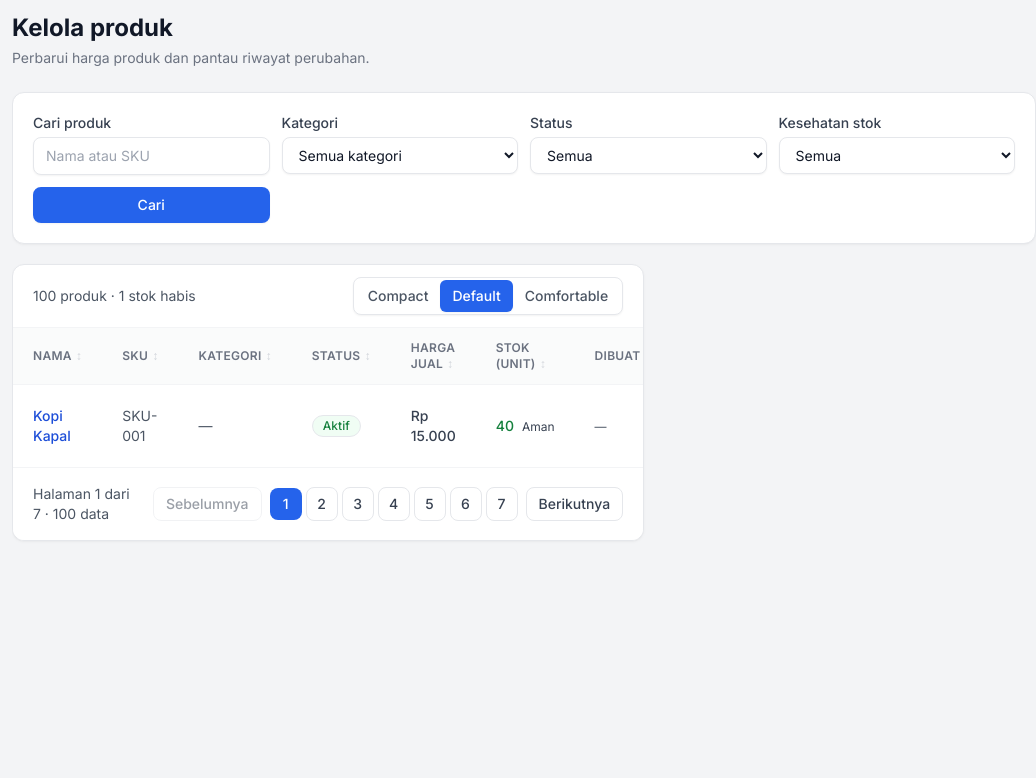
Scenario: admin products page › server-side product filters › combines filters, resets cursor, preserves sort, closes expansion, and renders filtered metadata
The image size is (1036, 778).
Expected: the button "Kopi Kapal" is shown, [33,406,82,446]
Click the column heading "Harga Jual". click: (433, 356)
box: [391,328,476,384]
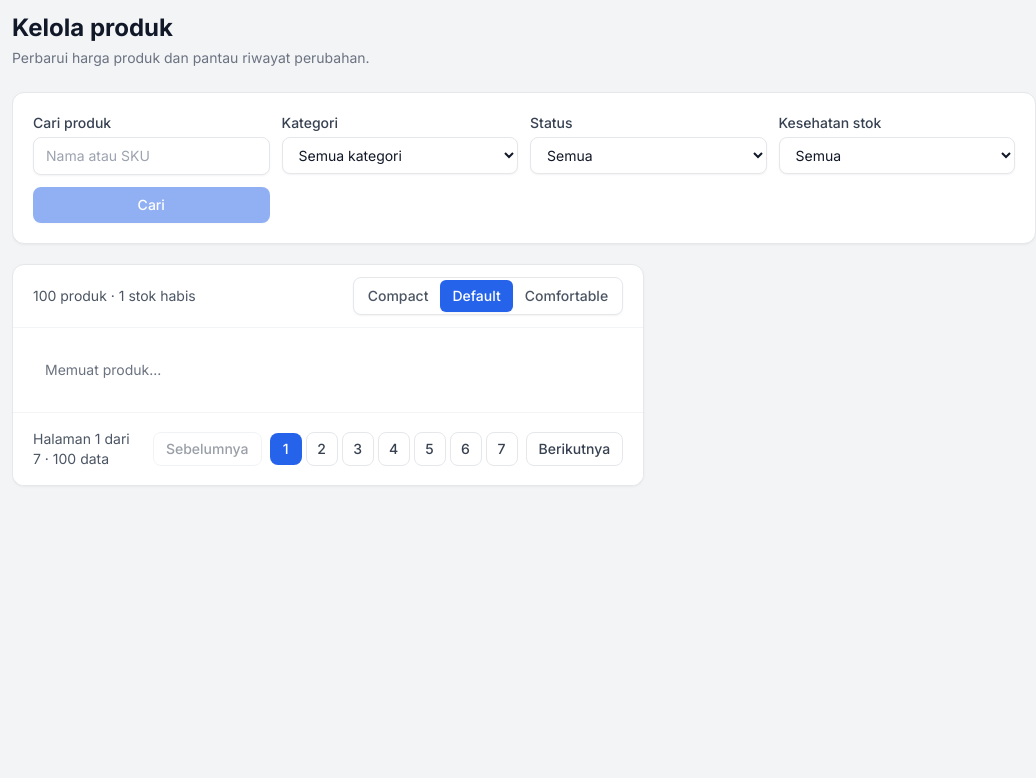
Click the button "Berikutnya". click: (574, 449)
box: [526,432,623,466]
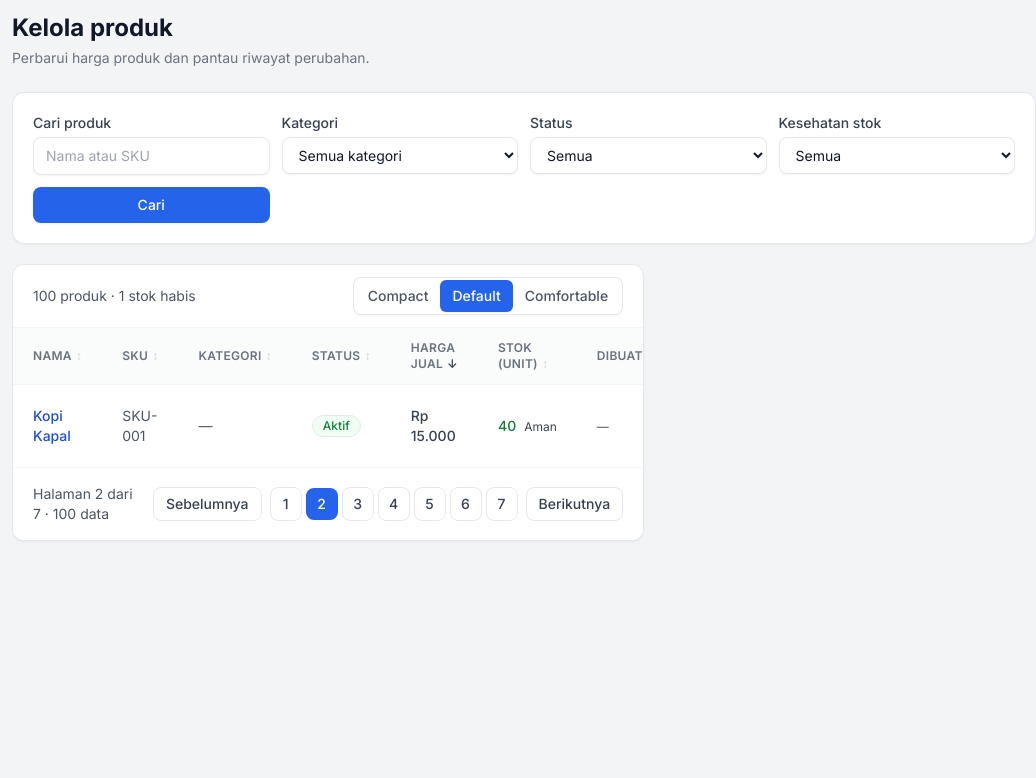
Click the button "Kopi Kapal". click: (58, 426)
box: [33,406,82,446]
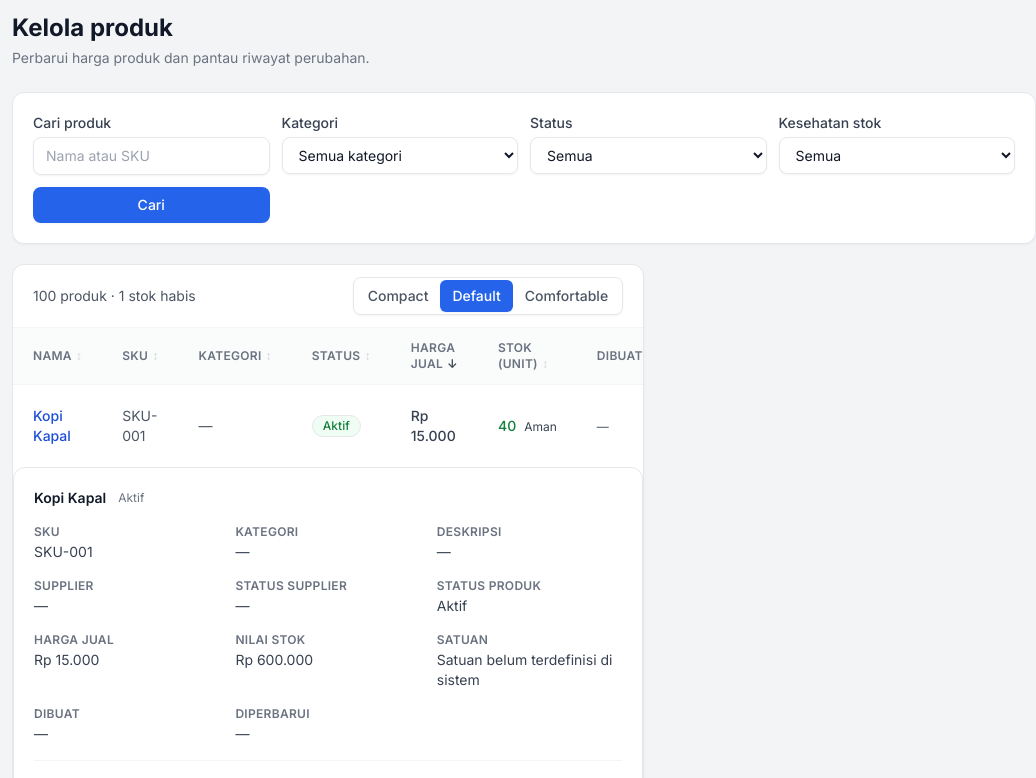
Select "Minuman" in the dropdown labelled "Kategori". click: (400, 156)
box: [282,137,518,174]
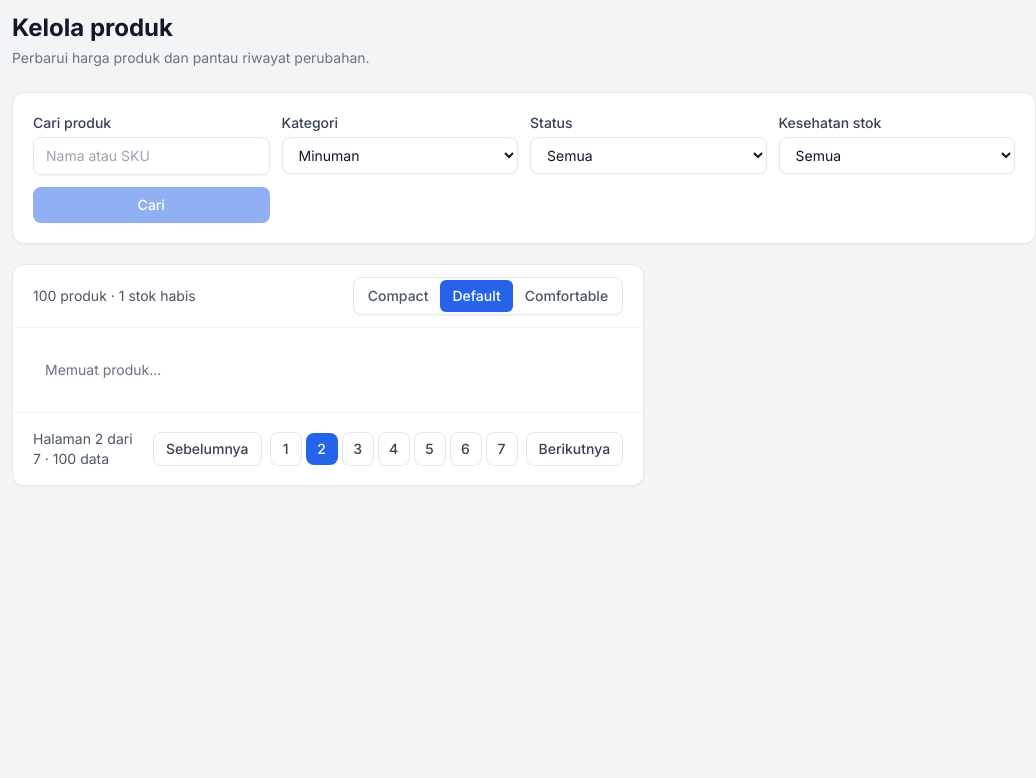
Select "Aktif" in the dropdown labelled "Status". click: (648, 156)
box: [530,137,766,174]
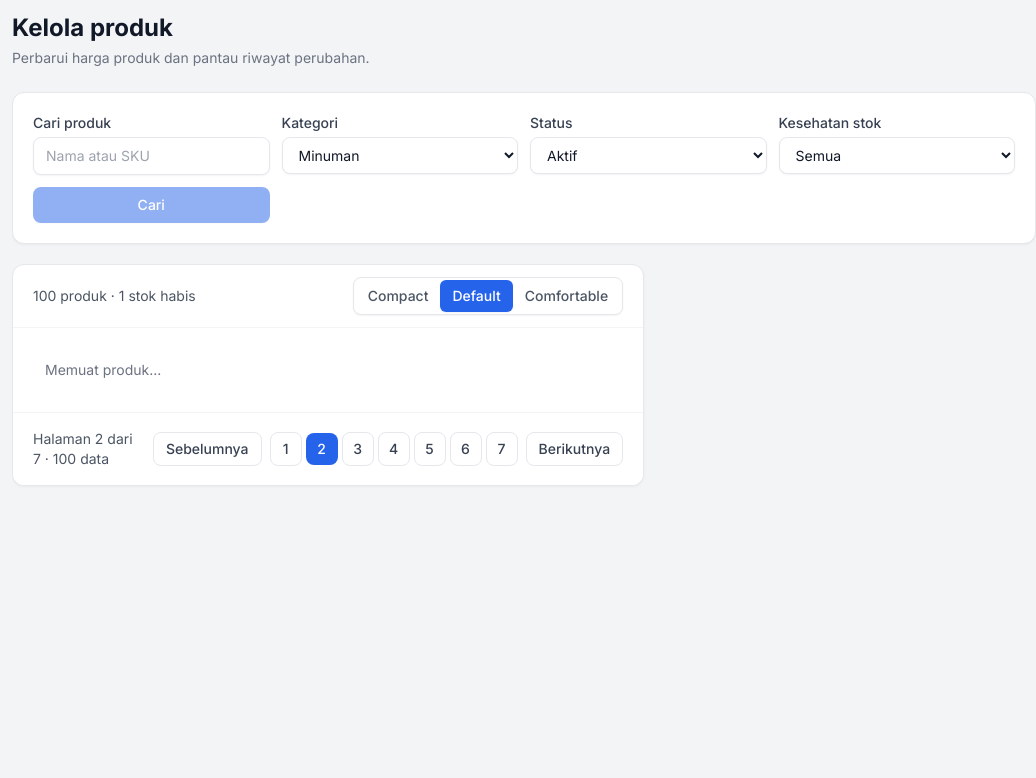
Select "Rendah" in the dropdown labelled "Kesehatan stok". click: (897, 156)
box: [778,137,1015,174]
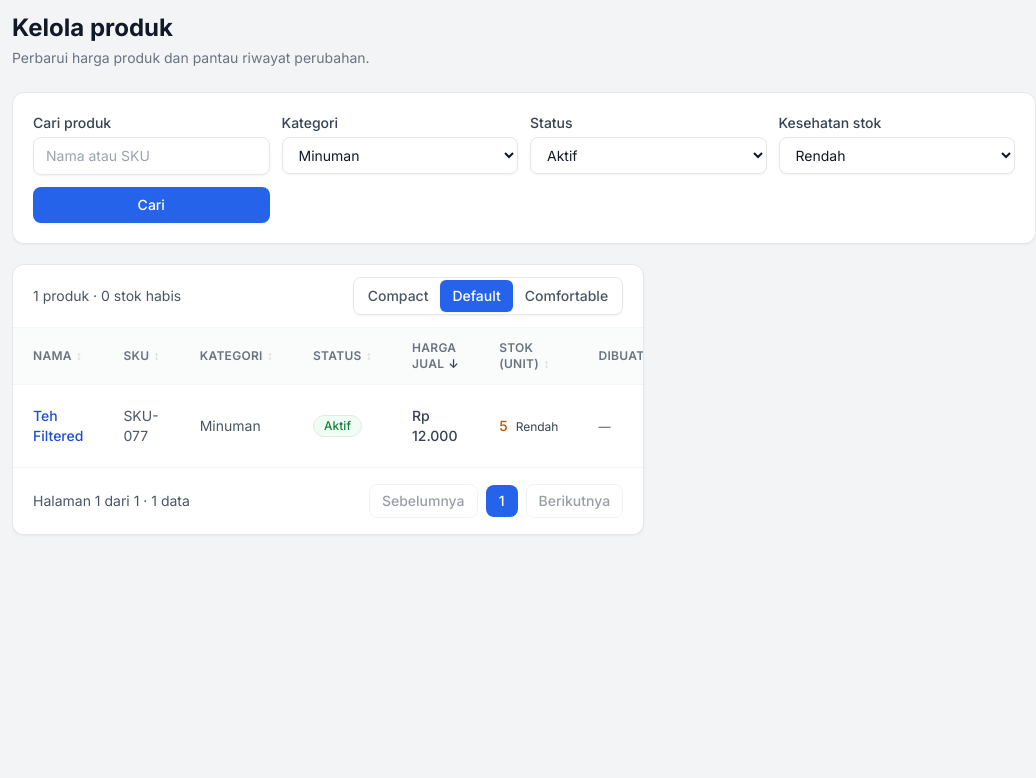
Now the button "Teh Filtered" is shown, box [33,406,83,446]
Now the text with test id "table-summary" shows "1 produk", box [33,287,181,304]
Now the text with test id "table-summary" shows "0 stok habis", box [33,287,181,304]
